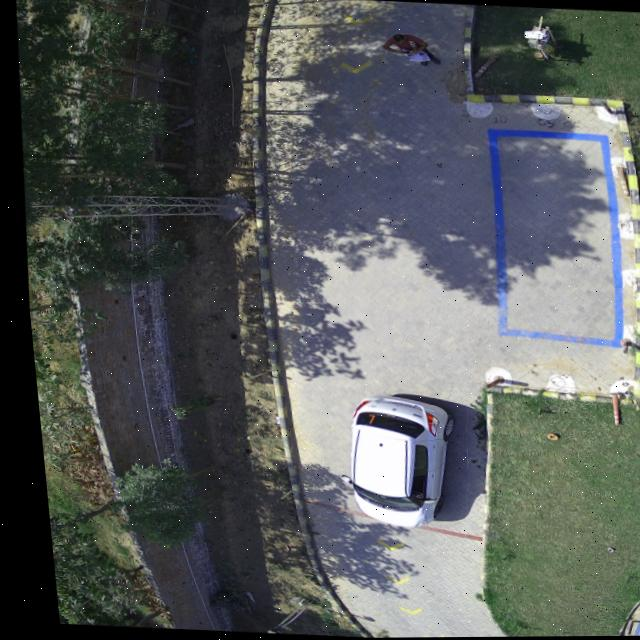car: (418, 413, 430, 435)
